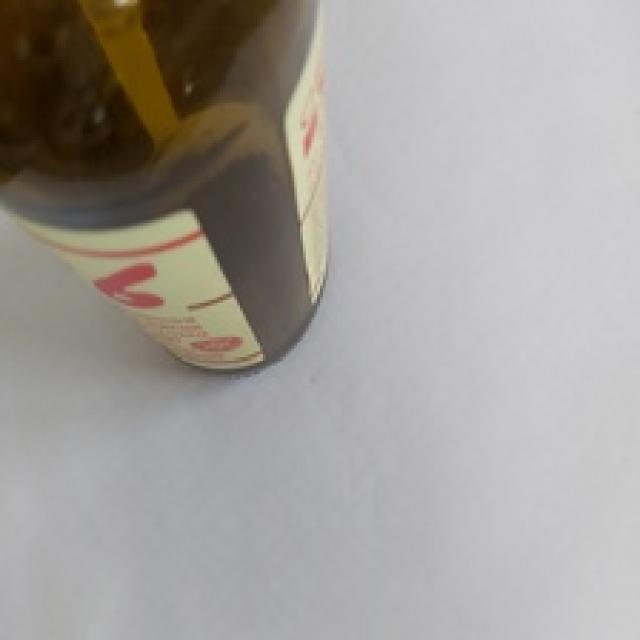Glass: (0, 0, 333, 376)
